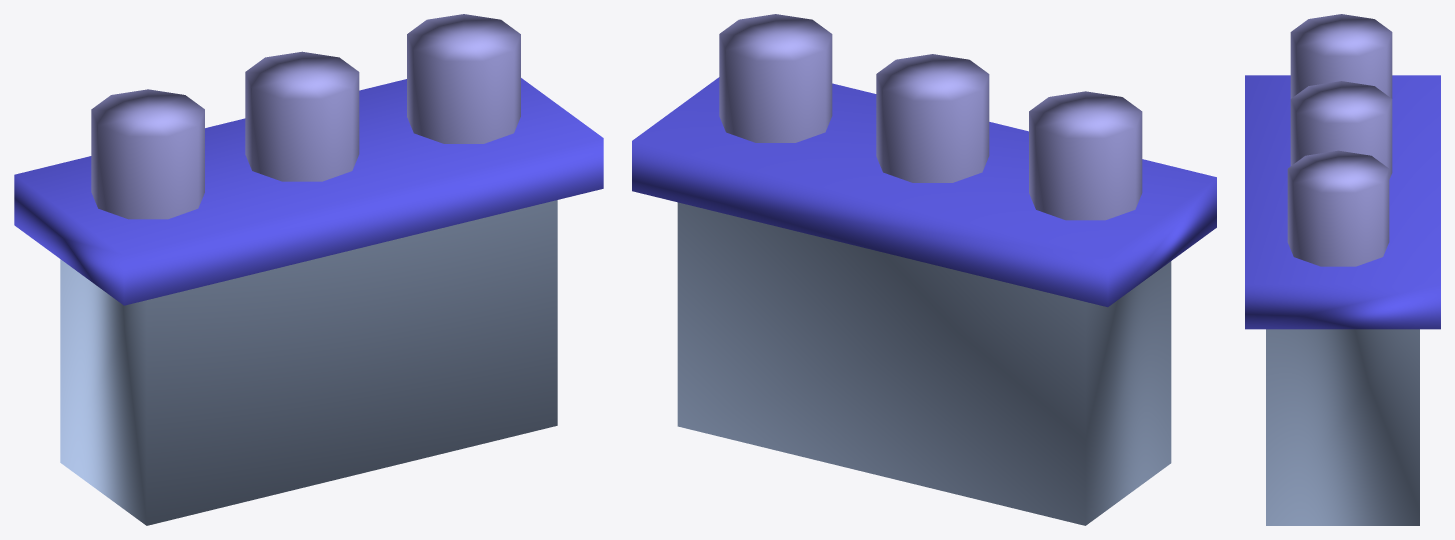
File: Building_A_3.fbx
3 renders of one model, left to right at view 1: azimuth 30°, elevation 25°; view 2: azimuth 150°, elevation 25°; view 3: azimuth 270°, elevation 25°, orthographic. The views are drawn at different scales.
Parts seen in each view (by area): view 1: Building_A_3; view 2: Building_A_3; view 3: Building_A_3.
Boxes of the visible parts, x1,y1,x2,y2 form: Building_A_3: [14, 14, 603, 525]; Building_A_3: [632, 14, 1216, 525]; Building_A_3: [1245, 14, 1440, 525].
Size of the model in its own units: 136 by 101 by 54.09.
